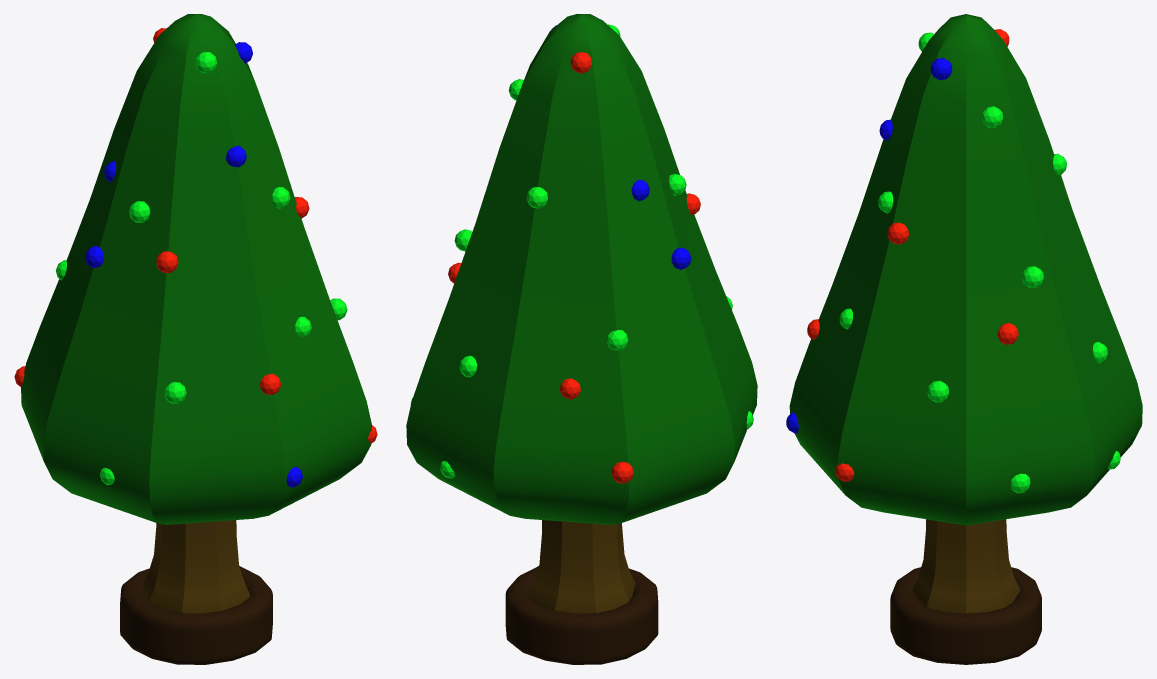
File: tree.glb
3 views of the same model, side by side, from view 1: azimuth 30°, elevation 25°; view 2: azimuth 150°, elevation 25°; view 3: azimuth 270°, elevation 25° (orthographic).
Visible parts, largest first — view 1: tree, Cube.003; view 2: tree, Cube.003; view 3: tree, Cube.003.
Part boxes in pixels (bbox=[...]): tree: bbox=[21, 14, 371, 613]; Cube.003: bbox=[120, 566, 272, 664]; tree: bbox=[406, 14, 757, 613]; Cube.003: bbox=[505, 566, 658, 664]; tree: bbox=[789, 14, 1142, 613]; Cube.003: bbox=[890, 567, 1041, 664].
Size of the model in its own units: 2.06 by 4.02 by 2.08.
